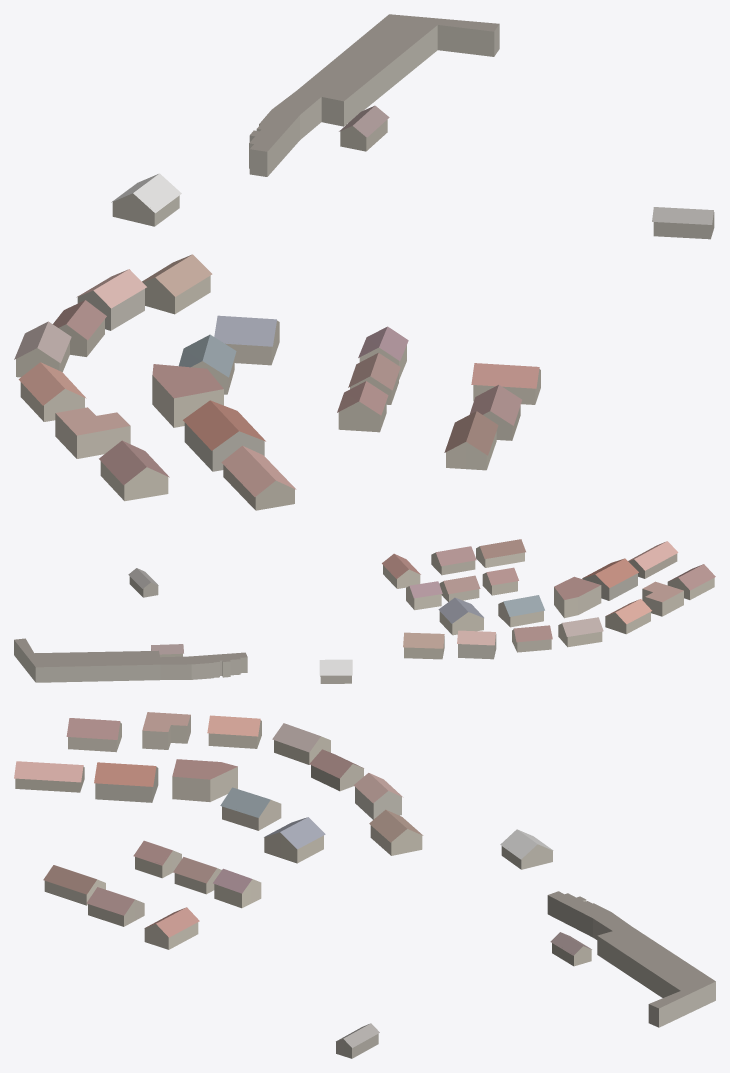
The picture shows the model from 3 angles, top to bottom: view 1: azimuth 30°, elevation 25°; view 2: azimuth 150°, elevation 25°; view 3: azimuth 270°, elevation 25°; orthographic projection. The views are drawn at different scales.
Parts seen in each view (by area): view 1: tuile; view 2: tuile; view 3: tuile.
Part boxes in pixels (x1,y1,x2,y2): tuile: [14, 14, 714, 510]; tuile: [14, 539, 715, 683]; tuile: [14, 712, 715, 1058].
Size of the model in its own units: 198 by 21.73 by 203.
